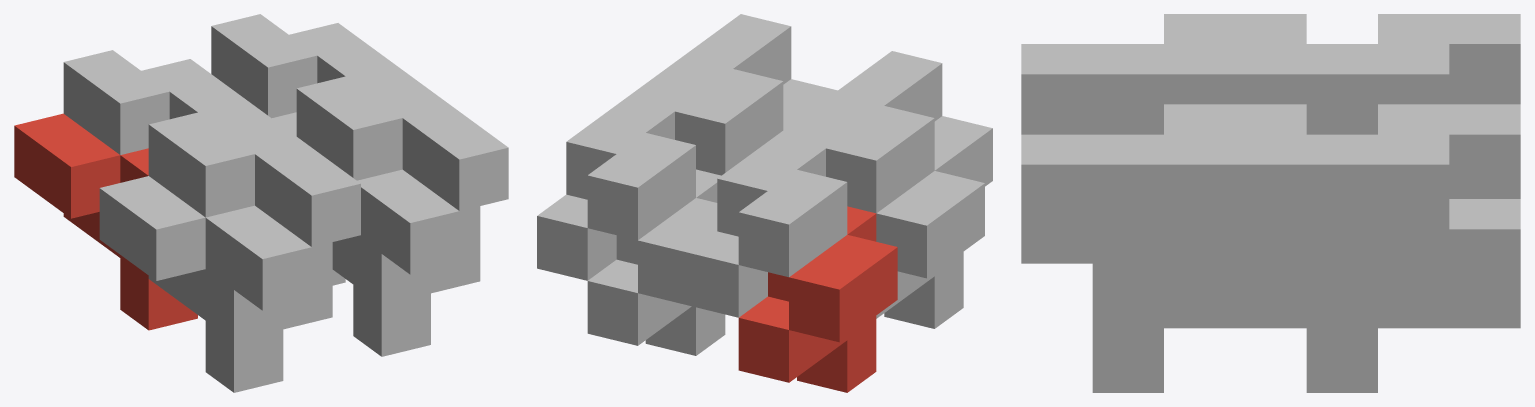
File: tiling.obj
The picture shows the model from 3 angles, left to right: view 1: azimuth 30°, elevation 25°; view 2: azimuth 150°, elevation 25°; view 3: azimuth 270°, elevation 25°; orthographic projection. The views are drawn at different scales.
Visible parts, largest first — view 1: copy_1_domain_2, copy_1_domain_4, copy_1_domain_8, copy_1_domain_6, copy_1_domain_3, copy_1_domain_1, copy_1_domain_7, copy_1_domain_5; view 2: copy_1_domain_3, copy_1_domain_7, copy_1_domain_1, copy_1_domain_2, copy_1_domain_4, copy_1_domain_5, copy_1_domain_8, copy_1_domain_6; view 3: copy_1_domain_7, copy_1_domain_8, copy_1_domain_3, copy_1_domain_4, copy_1_domain_6, copy_1_domain_5.
Boxes of the visible parts, x1,y1,x2,y2 form: copy_1_domain_2: (99,176,311,392); copy_1_domain_4: (148,112,360,329); copy_1_domain_8: (296,76,508,293); copy_1_domain_6: (332,169,459,356); copy_1_domain_3: (63,50,275,154); copy_1_domain_1: (14,113,197,330); copy_1_domain_7: (211,14,422,118); copy_1_domain_5: (272,112,345,285); copy_1_domain_3: (688,115,854,317); copy_1_domain_7: (537,78,703,280); copy_1_domain_1: (738,206,897,392); copy_1_domain_2: (876,116,992,328); copy_1_domain_4: (805,51,942,213); copy_1_domain_5: (587,169,725,355); copy_1_domain_8: (654,14,791,175); copy_1_domain_6: (783,79,837,129); copy_1_domain_7: (1235,104,1520,358); copy_1_domain_8: (1021,104,1306,358); copy_1_domain_3: (1235,14,1520,134); copy_1_domain_4: (1021,14,1306,134); copy_1_domain_6: (1021,229,1306,392); copy_1_domain_5: (1306,294,1520,392).
Bounding box in the file's own units: 6 × 4 × 7.
